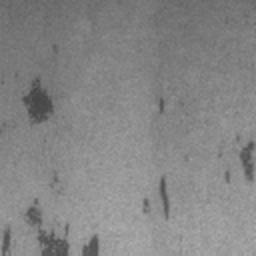Red iron sheet: (26, 198, 69, 256), (23, 77, 53, 123), (240, 141, 256, 182), (159, 175, 170, 220), (83, 234, 99, 256), (2, 225, 11, 256), (156, 96, 166, 115), (50, 170, 60, 188), (142, 198, 151, 214), (224, 170, 231, 184)
